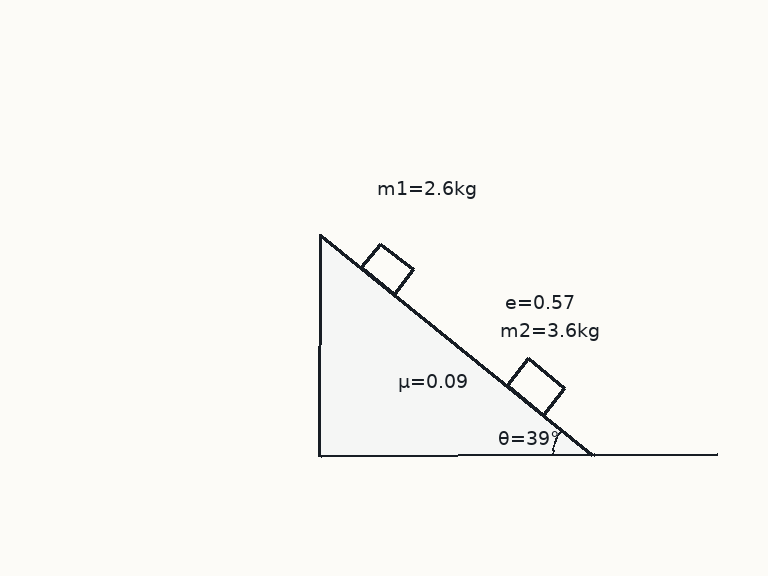block: (505, 357, 566, 416), (359, 241, 415, 296)
ramp: (318, 232, 595, 457)
